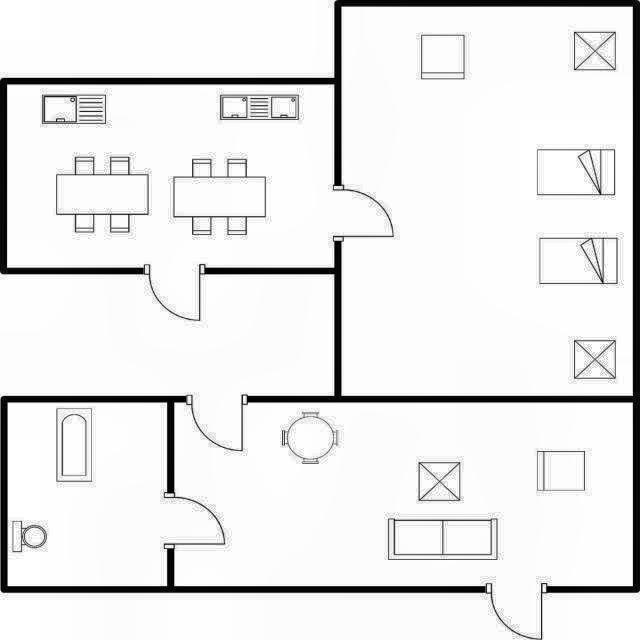room: (341, 7, 633, 394), (174, 403, 633, 586), (8, 85, 334, 267), (8, 402, 167, 586)
